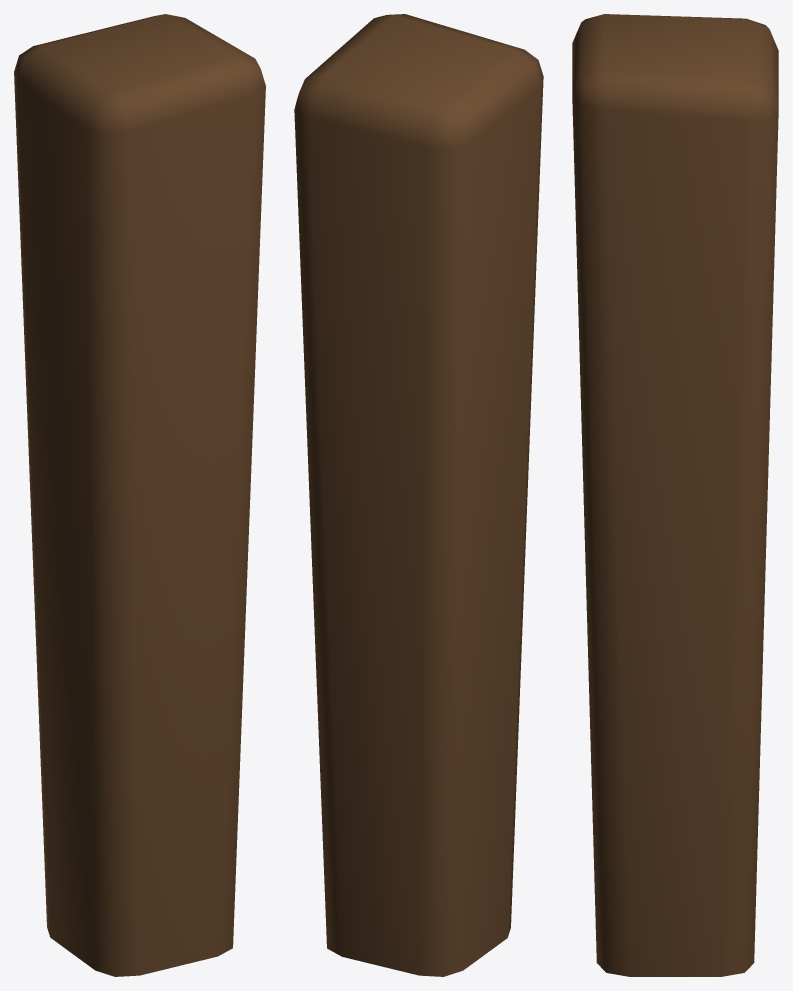
File: fence-column-2.fbx
3 views of the same model, side by side, from view 1: azimuth 30°, elevation 25°; view 2: azimuth 150°, elevation 25°; view 3: azimuth 270°, elevation 25° (orthographic). The views are drawn at different scales.
Parts seen in each view (by area): view 1: fence-column-2; view 2: fence-column-2; view 3: fence-column-2.
Boxes of the visible parts, x1,y1,x2,y2 form: fence-column-2: (14, 14, 265, 976); fence-column-2: (294, 14, 543, 976); fence-column-2: (572, 14, 778, 976).
Size of the model in its own units: 0.2501 by 1.21 by 0.2501.
